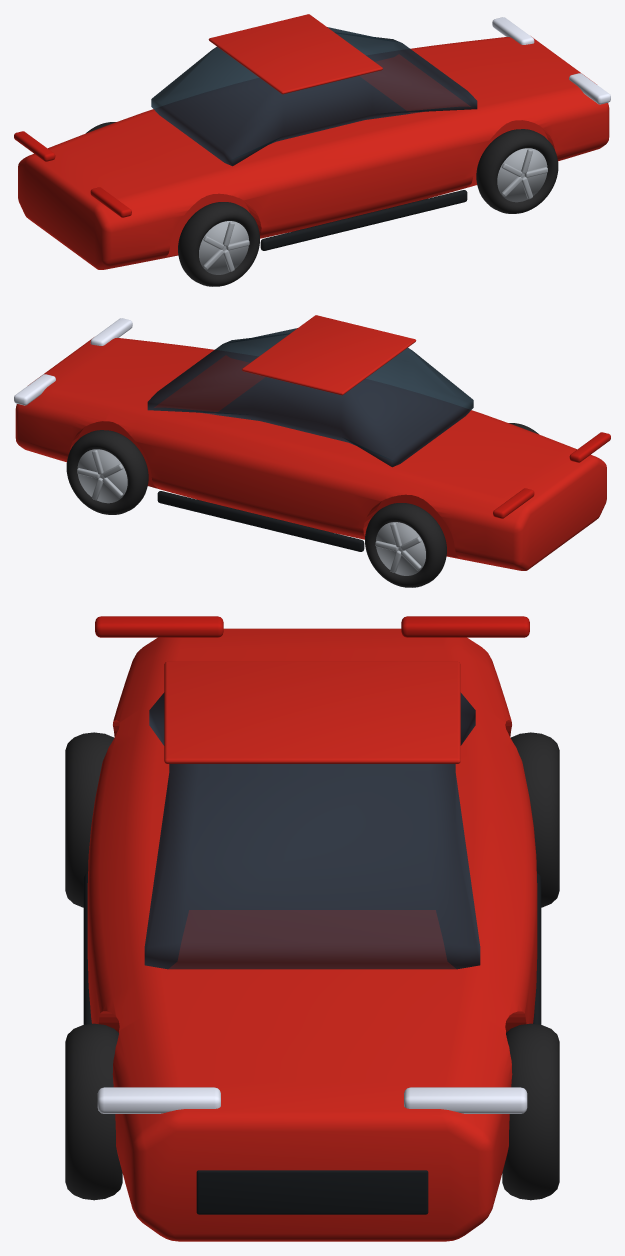
File: vehicle.glb
3 renders of one model, top to bottom at view 1: azimuth 30°, elevation 25°; view 2: azimuth 150°, elevation 25°; view 3: azimuth 270°, elevation 25°, orthographic. The views are drawn at different scales.
Visible parts, largest first — view 1: chassis, cabin_glass, roof, wheel_front_left, wheel_rear_left, side_sill_-1, wheel_front_left_rim, wheel_rear_left_rim, front_lamp_-1, front_lamp_1, rear_lamp_1, rear_lamp_-1; view 2: chassis, cabin_glass, roof, wheel_front_right, wheel_rear_right, side_sill_1, wheel_front_right_rim, wheel_rear_right_rim, front_lamp_1, front_lamp_-1, rear_lamp_-1, rear_lamp_1; view 3: chassis, cabin_glass, roof, front_grille, wheel_front_left, wheel_front_right, wheel_rear_left, wheel_rear_right, front_lamp_-1, front_lamp_1, rear_lamp_-1, rear_lamp_1 (+2 smaller).
Part boxes in pixels (left/top/right/bottom): chassis: left=18, top=36, right=609, bottom=269; cabin_glass: left=151, top=27, right=477, bottom=166; roof: left=208, top=14, right=382, bottom=94; wheel_front_left: left=476, top=129, right=558, bottom=213; wheel_rear_left: left=178, top=202, right=259, bottom=286; side_sill_-1: left=260, top=190, right=467, bottom=250; wheel_front_left_rim: left=497, top=148, right=547, bottom=202; wheel_rear_left_rim: left=199, top=221, right=248, bottom=274; front_lamp_-1: left=569, top=73, right=610, bottom=104; front_lamp_1: left=492, top=17, right=534, bottom=44; rear_lamp_1: left=14, top=131, right=55, bottom=161; rear_lamp_-1: left=90, top=187, right=131, bottom=217; chassis: left=15, top=337, right=606, bottom=570; cabin_glass: left=147, top=328, right=473, bottom=467; roof: left=242, top=315, right=416, bottom=395; wheel_front_right: left=66, top=430, right=148, bottom=514; wheel_rear_right: left=365, top=503, right=446, bottom=587; side_sill_1: left=157, top=491, right=364, bottom=551; wheel_front_right_rim: left=77, top=449, right=127, bottom=503; wheel_rear_right_rim: left=376, top=522, right=425, bottom=575; front_lamp_1: left=14, top=374, right=55, bottom=405; front_lamp_-1: left=90, top=318, right=132, bottom=345; rear_lamp_-1: left=569, top=432, right=610, bottom=462; rear_lamp_1: left=493, top=488, right=534, bottom=518; chassis: left=87, top=628, right=537, bottom=1241; cabin_glass: left=144, top=692, right=480, bottom=969; roof: left=164, top=661, right=460, bottom=763; front_grille: left=196, top=1170, right=428, bottom=1214; wheel_front_left: left=65, top=1023, right=122, bottom=1200; wheel_front_right: left=502, top=1023, right=559, bottom=1200; wheel_rear_left: left=65, top=732, right=113, bottom=907; wheel_rear_right: left=511, top=732, right=559, bottom=907; front_lamp_-1: left=97, top=1087, right=220, bottom=1113; front_lamp_1: left=404, top=1087, right=527, bottom=1113; rear_lamp_-1: left=95, top=616, right=223, bottom=637; rear_lamp_1: left=401, top=616, right=529, bottom=637.
Size of the model in its own units: 4.51 by 1.35 by 1.9.
